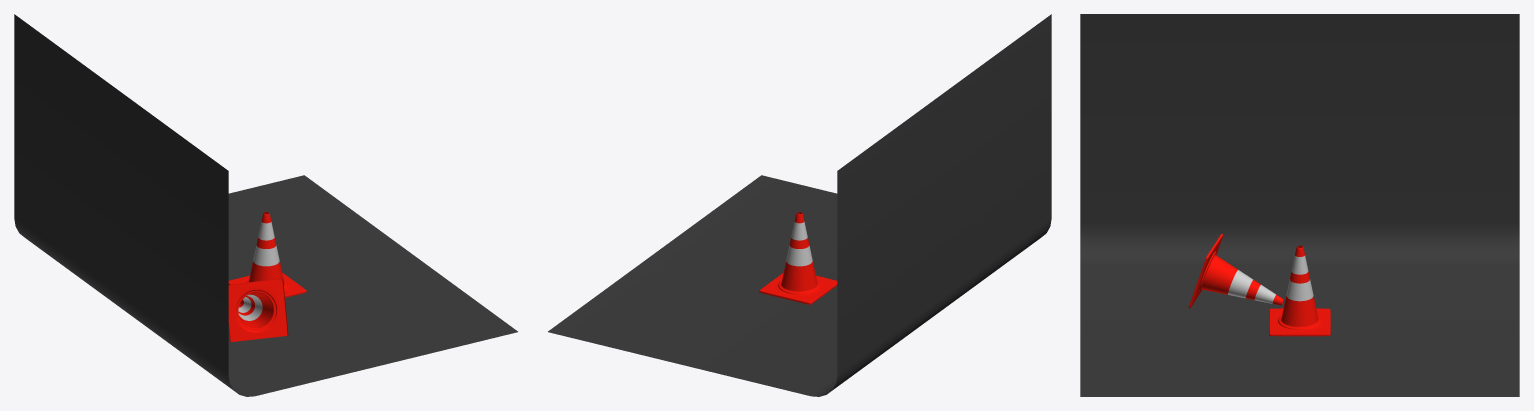
The model's file is Traffic_Cone.obj.
The picture shows the model from 3 angles, left to right: view 1: azimuth 30°, elevation 25°; view 2: azimuth 150°, elevation 25°; view 3: azimuth 270°, elevation 25°; orthographic projection. The views are drawn at different scales.
Parts seen in each view (by area): view 1: Plane, traffic_cone.001, traffic_cone; view 2: Plane, traffic_cone; view 3: Plane, traffic_cone, traffic_cone.001.
Boxes of the visible parts, x1,y1,x2,y2 form: Plane: (14, 14, 517, 396); traffic_cone.001: (228, 278, 288, 342); traffic_cone: (228, 212, 306, 297); Plane: (548, 14, 1051, 396); traffic_cone: (759, 212, 837, 304); Plane: (1080, 14, 1519, 396); traffic_cone: (1269, 245, 1330, 336); traffic_cone.001: (1188, 234, 1283, 307).
Bounding box in the file's own units: 2.24 × 1.72 × 2.86.
